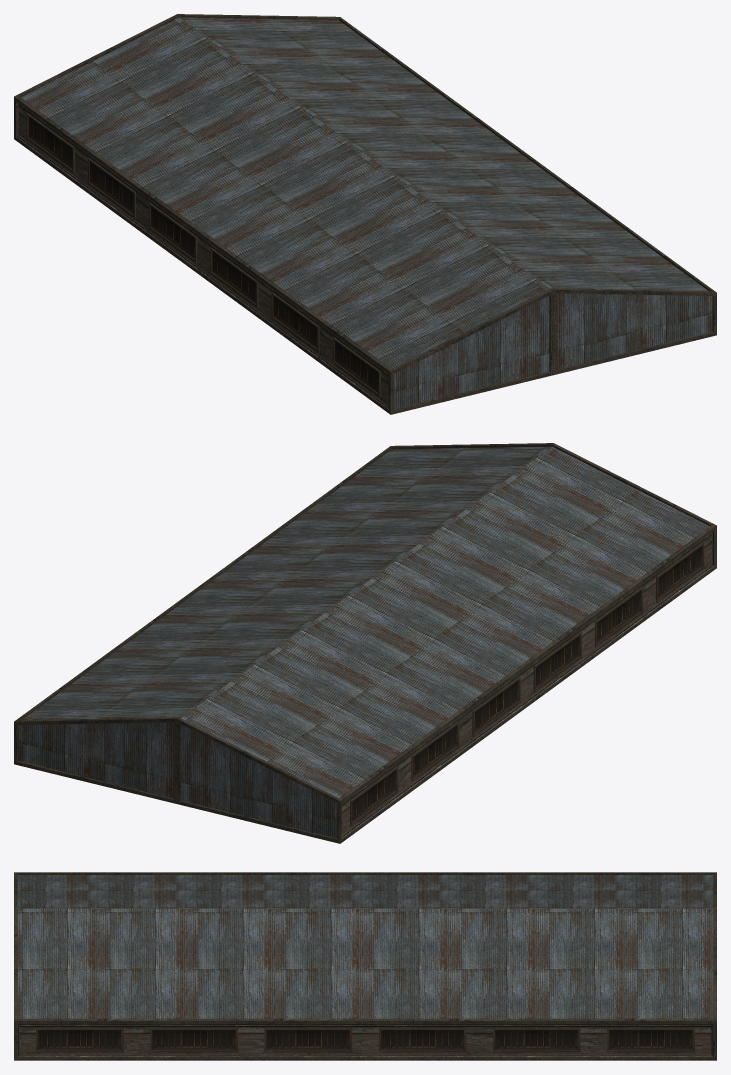
File: roof_mh_4_a_4.obj
The picture shows the model from 3 angles, top to bottom: view 1: azimuth 30°, elevation 25°; view 2: azimuth 150°, elevation 25°; view 3: azimuth 270°, elevation 25°; orthographic projection. The views are drawn at different scales.
Visible parts, largest first — view 1: roof_mh_4_a_4; view 2: roof_mh_4_a_4; view 3: roof_mh_4_a_4.
Boxes of the visible parts, <box> form: roof_mh_4_a_4: <box>14,14,716,414</box>; roof_mh_4_a_4: <box>14,443,716,843</box>; roof_mh_4_a_4: <box>14,872,716,1060</box>.
Bounding box in the file's own units: 8 × 2 × 16.
